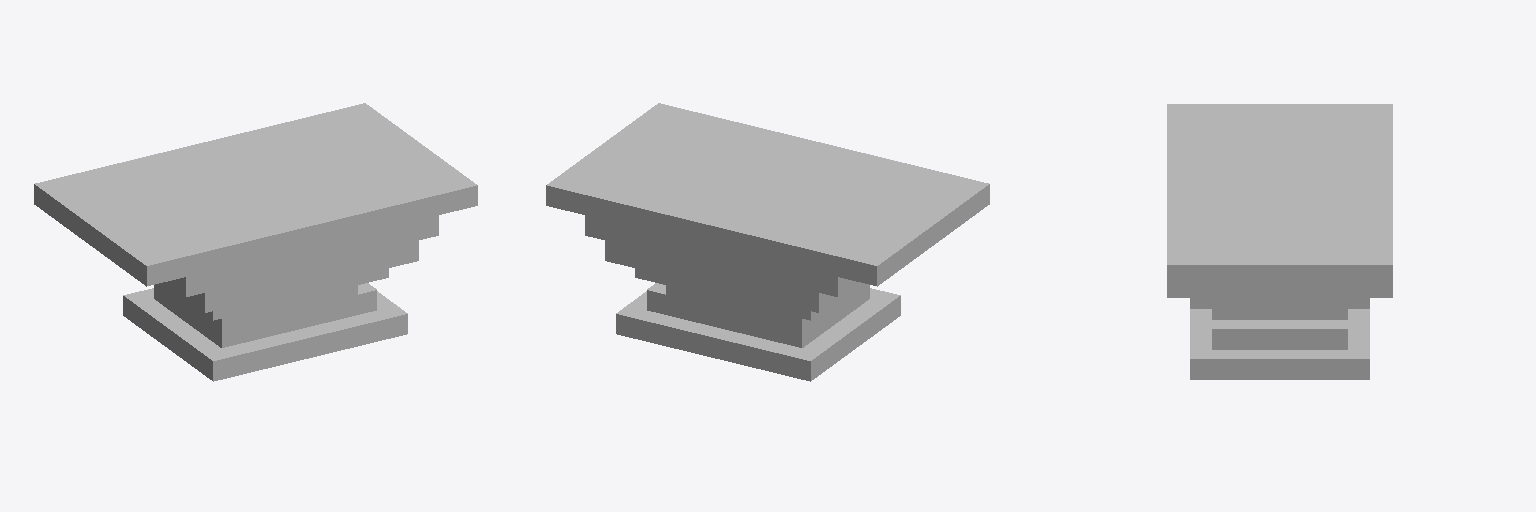
The model's file is anvil.obj.
The picture shows the model from 3 angles: view 1: azimuth 30°, elevation 25°; view 2: azimuth 150°, elevation 25°; view 3: azimuth 270°, elevation 25°; orthographic projection.
Visible parts, largest first — view 1: cube; view 2: cube; view 3: cube.
Boxes of the visible parts, x1,y1,x2,y2 form: cube: [34, 103, 477, 381]; cube: [546, 103, 989, 381]; cube: [1167, 104, 1392, 379].
Bounding box in the file's own units: 1.06 × 0.4375 × 0.625.